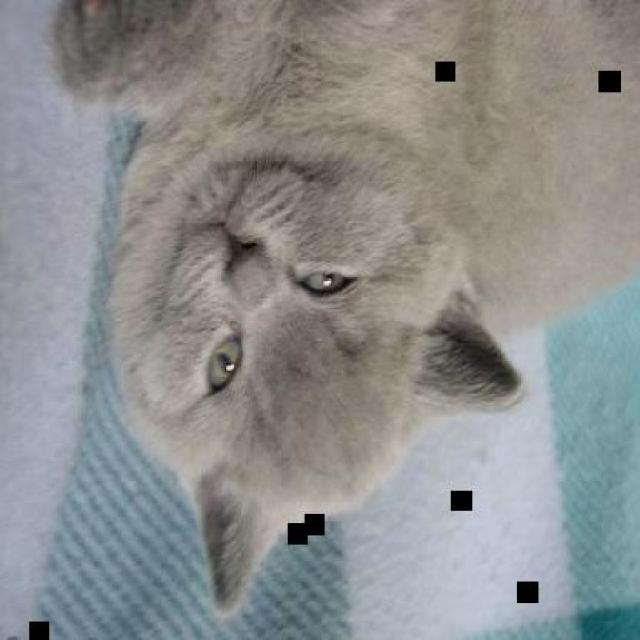cat: (49, 1, 638, 618)
